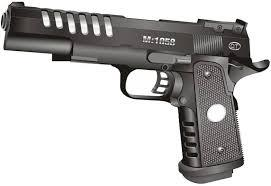gun: (3, 0, 255, 184)
